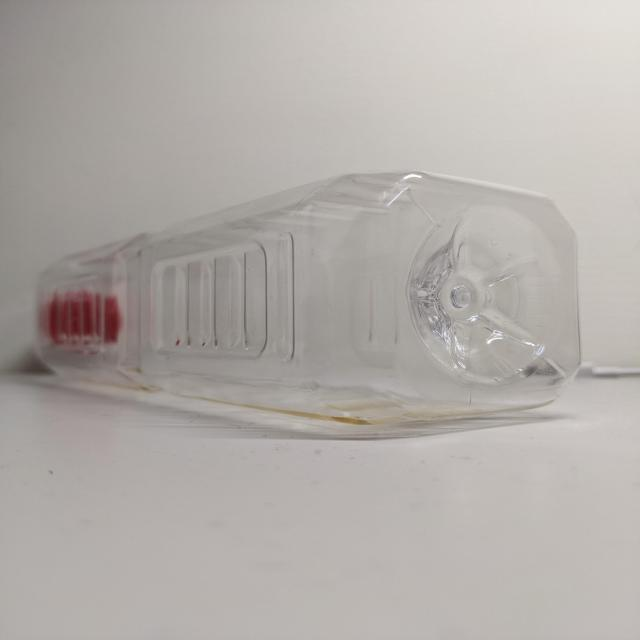Plastic: (29, 174, 592, 442)
